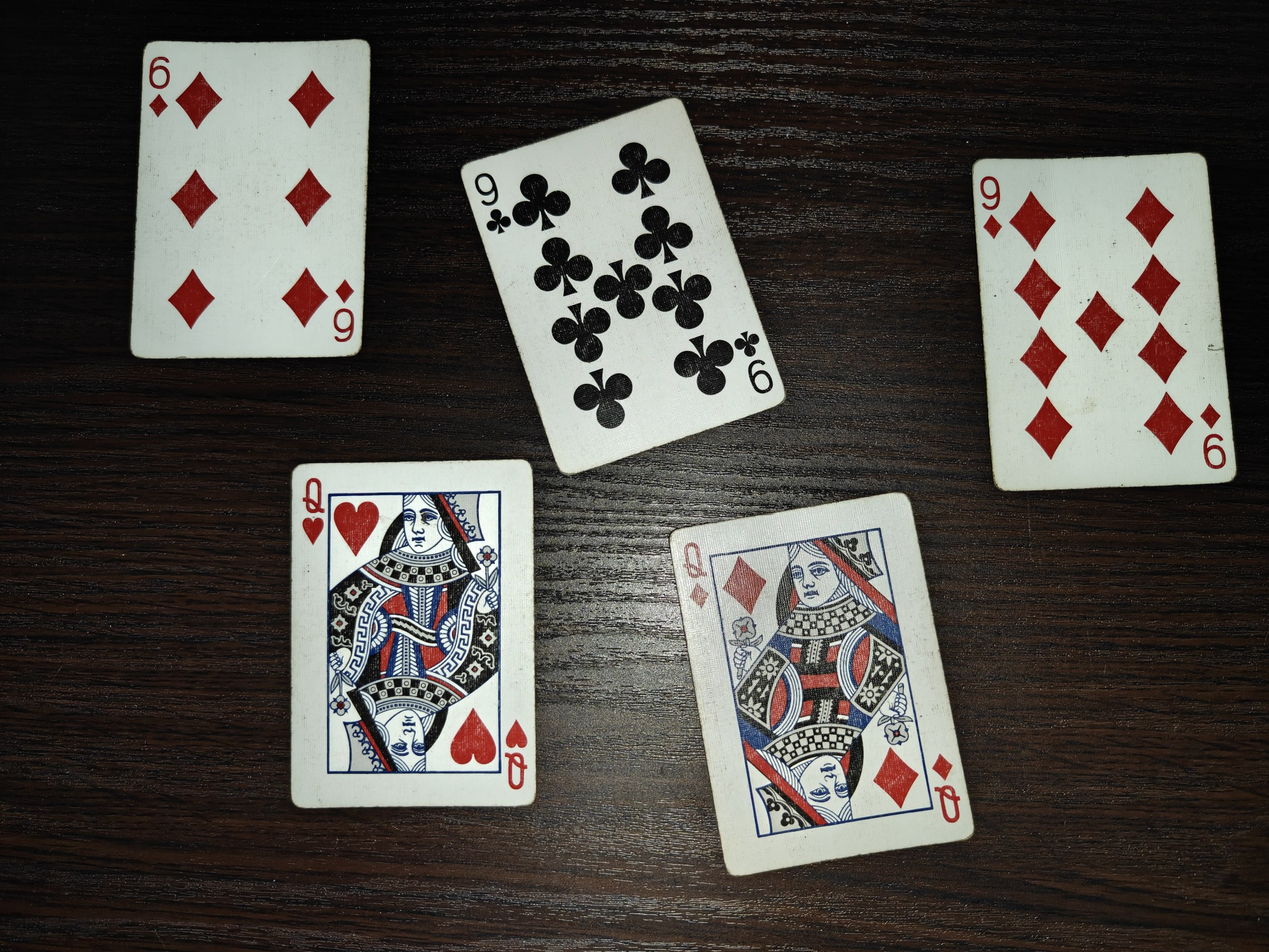6D: (129, 39, 371, 361)
9C: (461, 95, 786, 472)
9D: (972, 152, 1238, 493)
QD: (671, 491, 976, 877)
QH: (291, 460, 537, 809)
